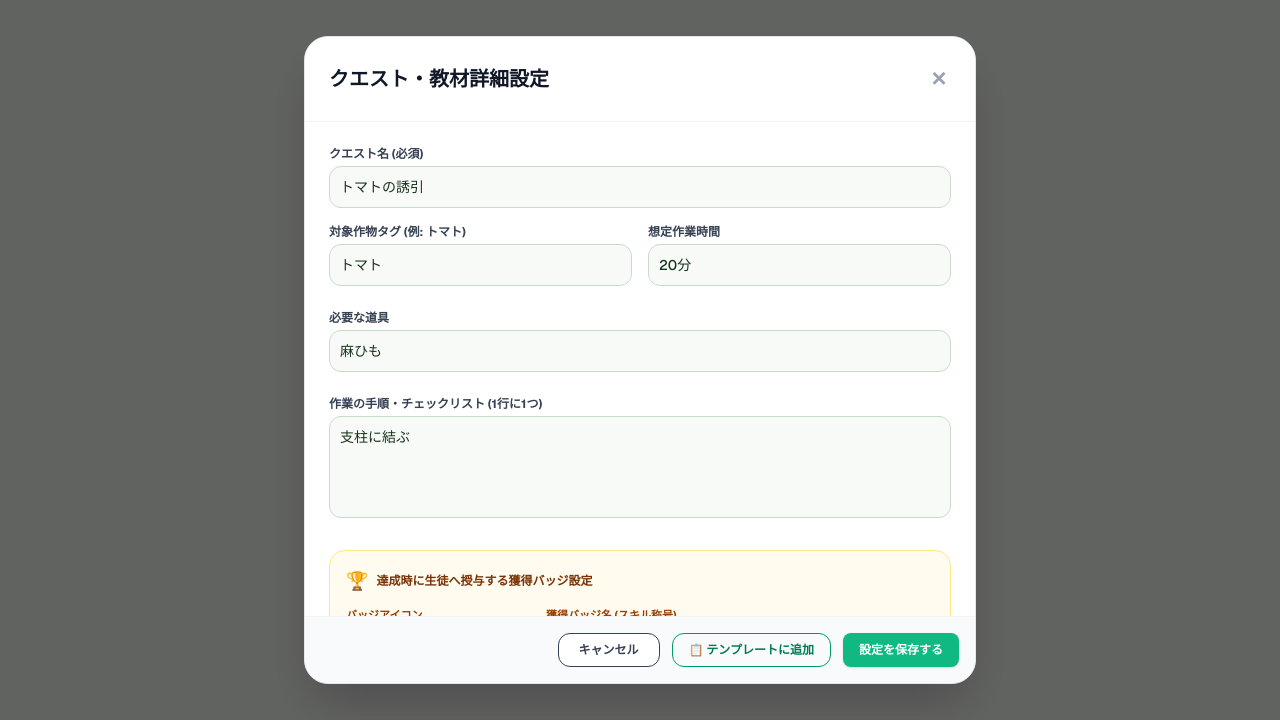
Test: R-2: 書き込みエラーのトースト通知（正常系・異常系） › 2. タスク編集からのテンプレート追加 (TaskEditModal.handleSaveAsTemplate) › DB 書き込み失敗時にエラートーストが表示され、成功トーストは出ない
The width and height of the screenshot is (1280, 720).
Click the button "📋 テンプレートに追加" at x=751, y=650, box [672, 633, 831, 667]
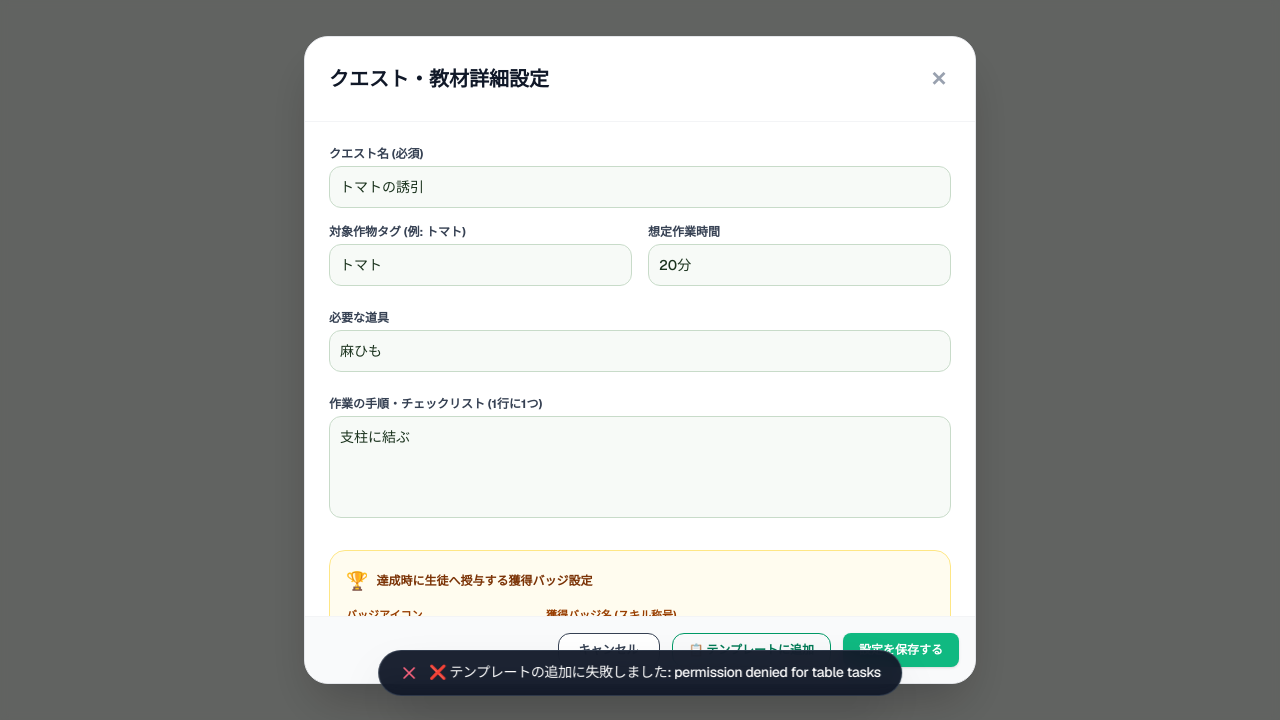
Expected: the text "❌ テンプレートの追加に失敗しました: permission denied for table tasks" is shown, [429, 663, 881, 683]
